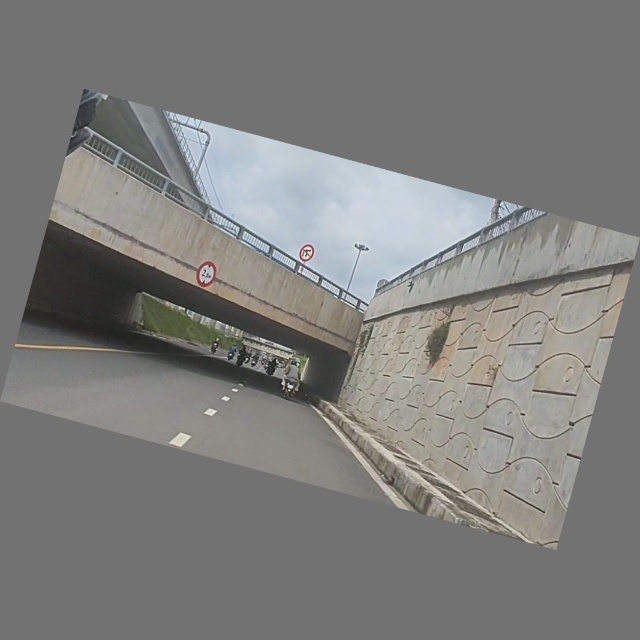P.117*: (192, 259, 221, 291)
P.124d: (298, 243, 317, 264)
